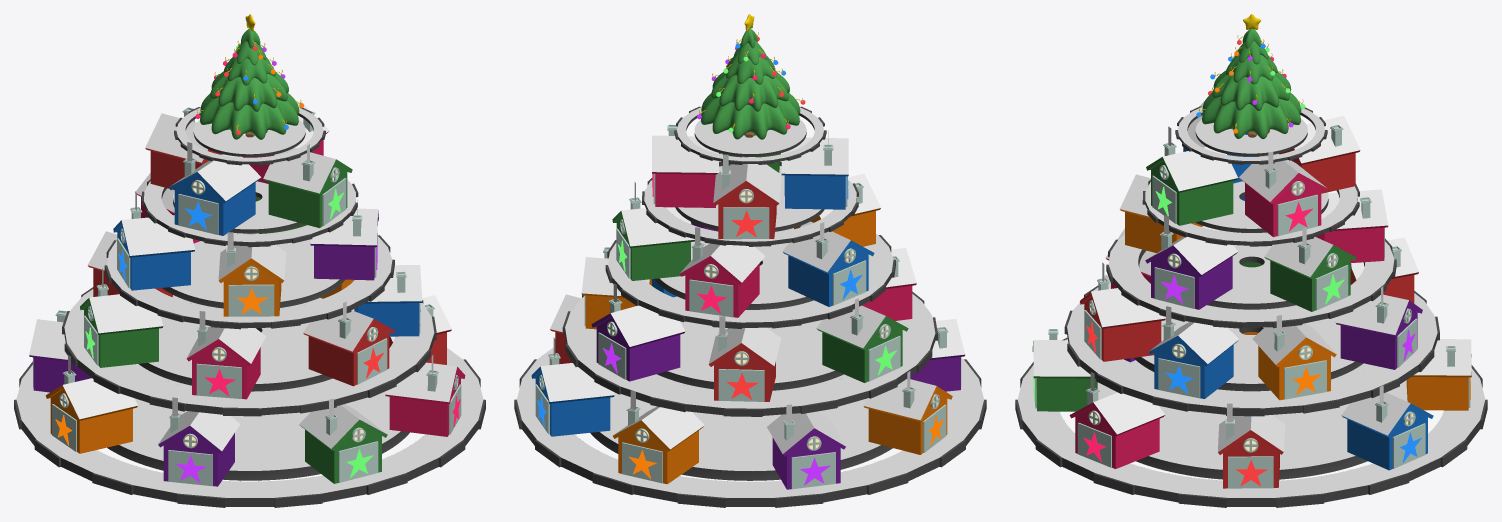
The model's file is AdventCalendar.glb.
3 views of the same model, side by side, from view 1: azimuth 30°, elevation 25°; view 2: azimuth 150°, elevation 25°; view 3: azimuth 270°, elevation 25° (orthographic).
Visible parts, largest first — view 1: Floor_0.001, Floor_1.001, Floor_2.001, Floor_0, Floor_1, Floor_4.001, Floor_3.001, Floor_2, Leaves_1, Frame, Frame.022, Frame.011 (+41 smaller); view 2: Floor_0.001, Floor_1.001, Floor_0, Floor_2.001, Floor_1, Floor_4.001, Floor_3.001, Leaves_1, Floor_2, Frame.013, Frame, Frame.006 (+44 smaller); view 3: Floor_0.001, Floor_1.001, Floor_2.001, Floor_0, Floor_1, Floor_4.001, Floor_3.001, Floor_2, Leaves_1, Frame.022, Frame.013, Frame.005 (+45 smaller).
Boxes of the visible parts, x1,y1,x2,y2 form: Floor_0.001: (16,348,483,497); Floor_1.001: (64,289,434,408); Floor_2.001: (107,233,392,322); Floor_0: (14,359,485,507); Floor_1: (62,287,436,416); Floor_4.001: (176,107,323,161); Floor_3.001: (144,157,355,241); Floor_2: (104,235,394,329); Leaves_1: (200,93,299,139); Frame: (45,385,137,453); Frame.022: (263,159,352,228); Frame.011: (80,298,163,367); Floor_0.001: (517,347,983,497); Floor_1.001: (565,294,935,408); Floor_0: (514,359,986,507); Floor_2.001: (608,228,893,322); Floor_1: (562,291,937,416); Floor_4.001: (677,107,823,161); Floor_3.001: (644,153,856,241); Leaves_1: (701,93,800,139); Floor_2: (605,235,895,328); Frame.013: (591,313,685,381); Frame: (863,386,952,454); Frame.006: (531,366,614,436); Floor_0.001: (1017,335,1485,497); Floor_1.001: (1067,280,1437,408); Floor_2.001: (1108,230,1394,322); Floor_0: (1015,337,1487,507); Floor_1: (1064,285,1439,416); Floor_4.001: (1178,107,1324,160); Floor_3.001: (1145,181,1357,241); Floor_2: (1106,238,1396,328); Leaves_1: (1202,92,1301,138); Frame.022: (1146,157,1237,225); Frame.013: (1335,300,1422,369); Frame.005: (1069,402,1164,468).
Size of the model in its own units: 1.85 by 1.71 by 1.86.
